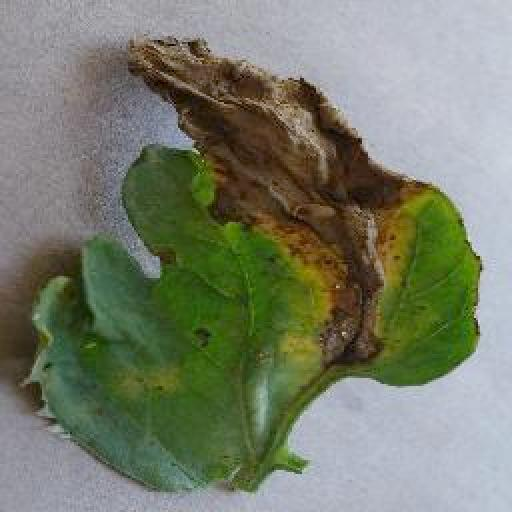disease_tomato: (26, 38, 482, 498)
